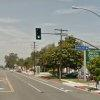Traffic light: (31, 21, 47, 49)
